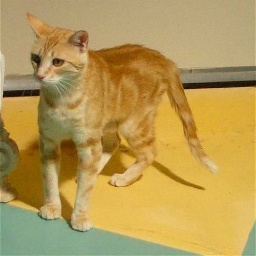cat: (24, 9, 223, 236)
